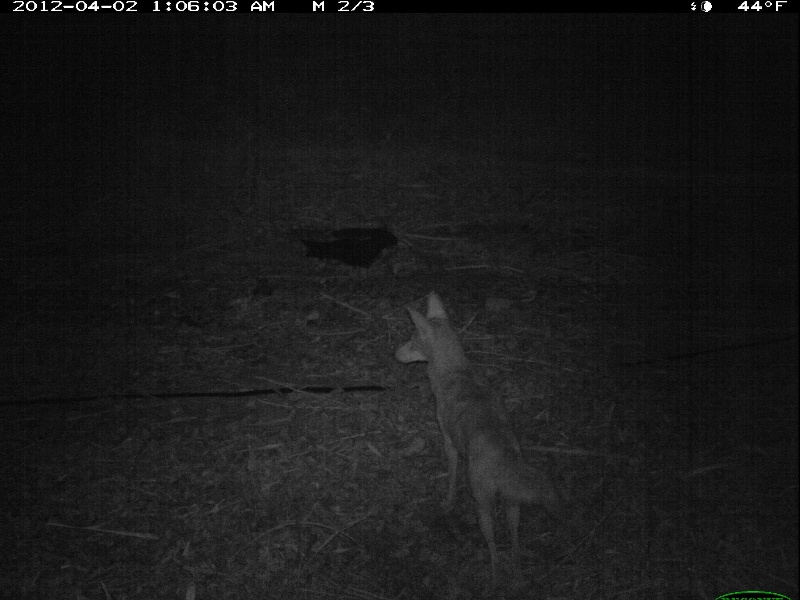coyote: (394, 287, 568, 581)
